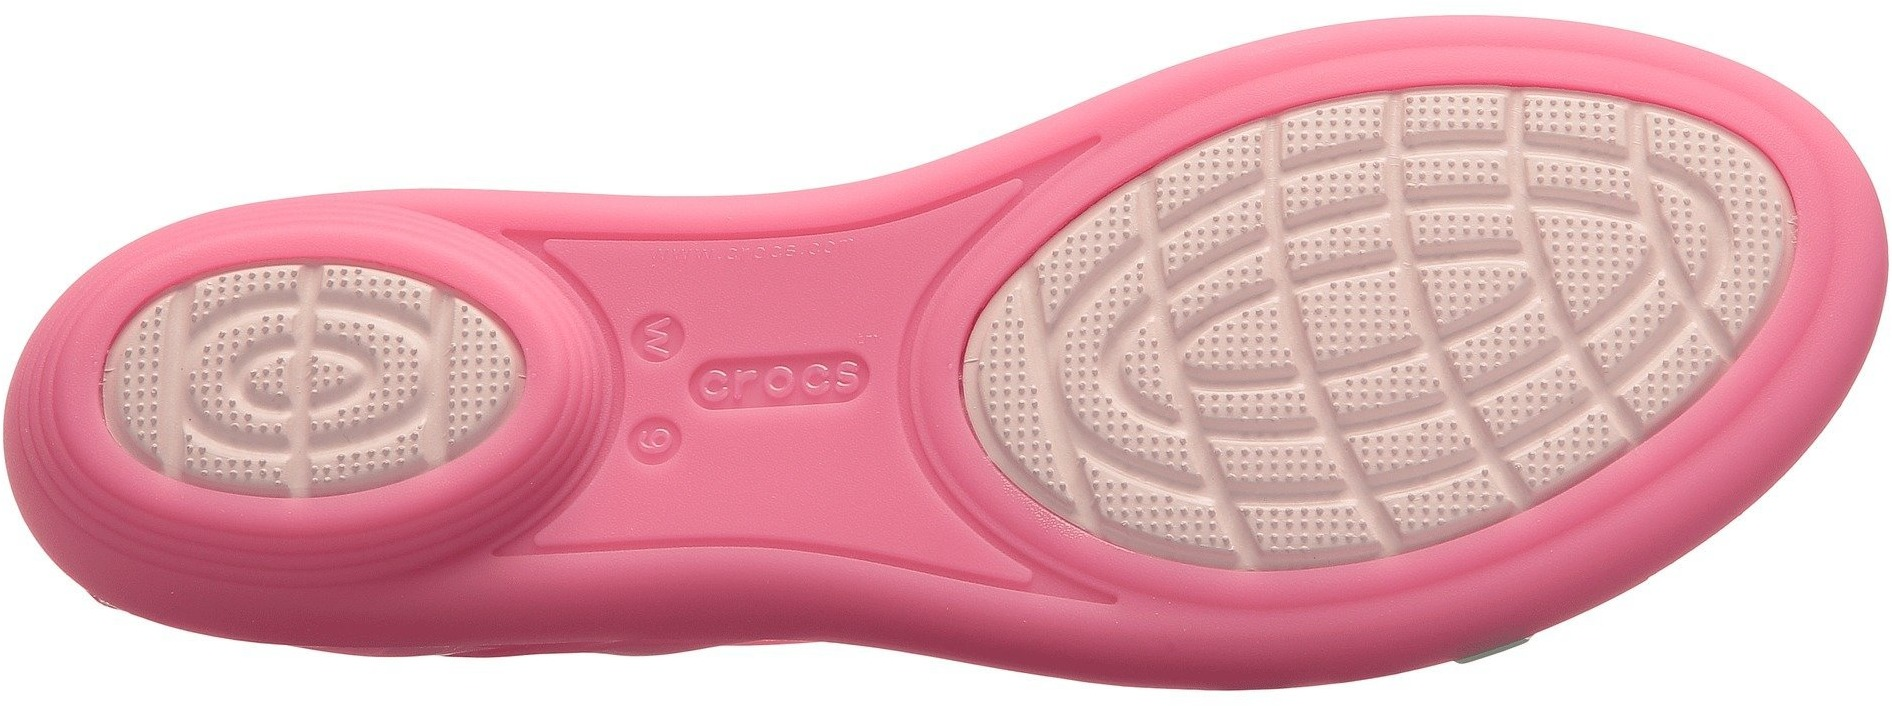chevron: (1036, 282, 1205, 485)
circle: (162, 282, 460, 472), (623, 288, 696, 387), (705, 352, 789, 418), (625, 403, 690, 480)
line: (162, 282, 460, 472)
quad: (1141, 385, 1322, 553), (1140, 148, 1298, 333), (1349, 368, 1508, 525), (1180, 154, 1325, 292), (1342, 116, 1473, 253), (1529, 325, 1649, 436), (1490, 100, 1607, 205)
text: (623, 288, 696, 387), (705, 352, 789, 418), (625, 403, 690, 480), (798, 343, 869, 408)
triangle: (1036, 282, 1205, 485), (1502, 210, 1672, 339)
